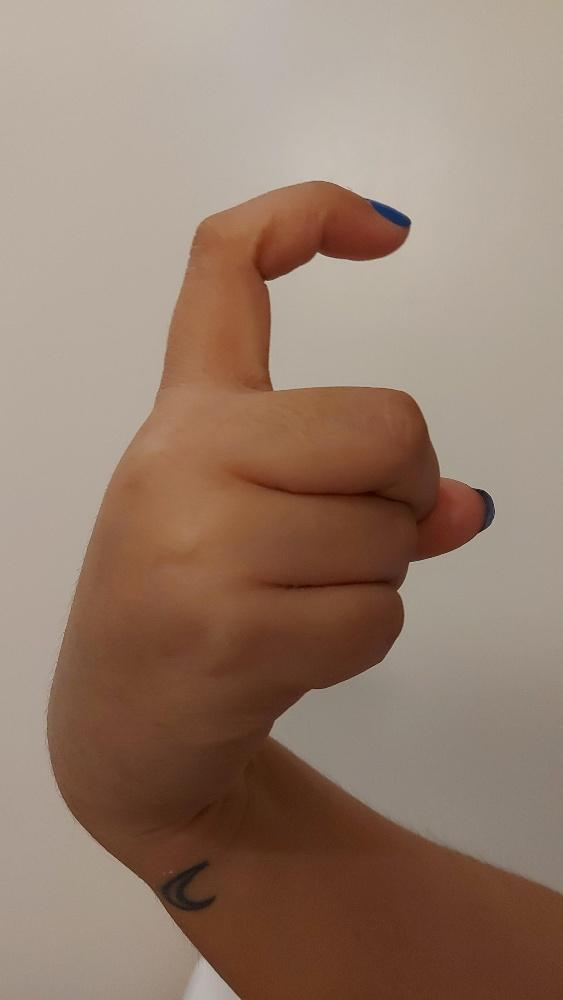x: (49, 177, 495, 828)
